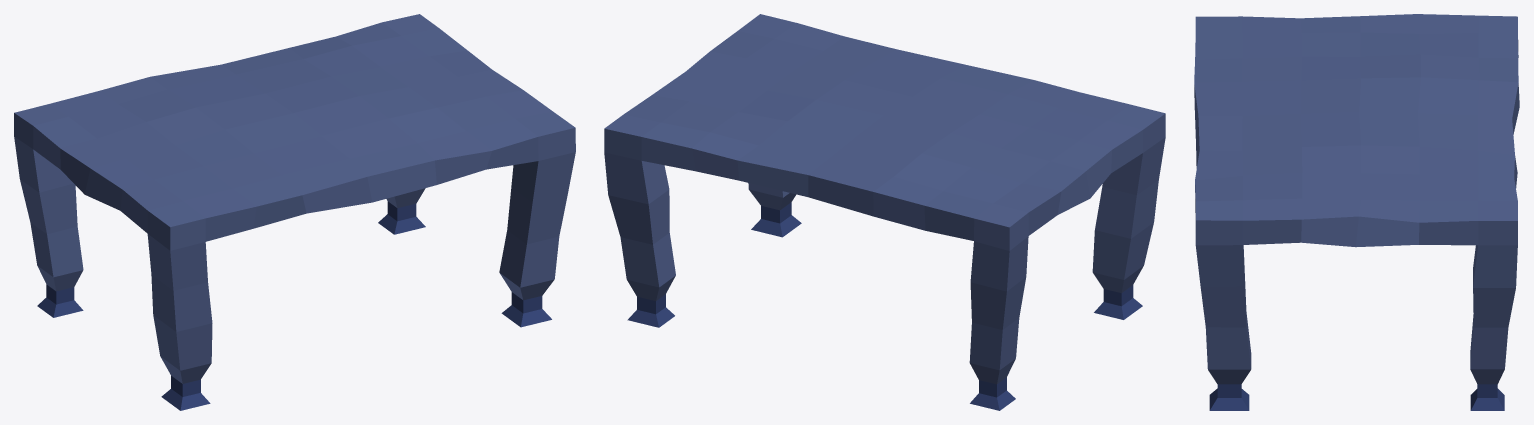
File: TableGameOff2024-1.fbx
3 renders of one model, left to right at view 1: azimuth 30°, elevation 25°; view 2: azimuth 150°, elevation 25°; view 3: azimuth 270°, elevation 25°, orthographic. The views are drawn at different scales.
Visible parts, largest first — view 1: SizeReference; view 2: SizeReference; view 3: SizeReference.
Boxes of the visible parts, box(x1,y1,x2,y2) form: SizeReference: box(14, 14, 575, 410); SizeReference: box(604, 14, 1165, 410); SizeReference: box(1194, 14, 1519, 410).
Bounding box in the file's own units: 3.08 × 2.02 × 1.41.
